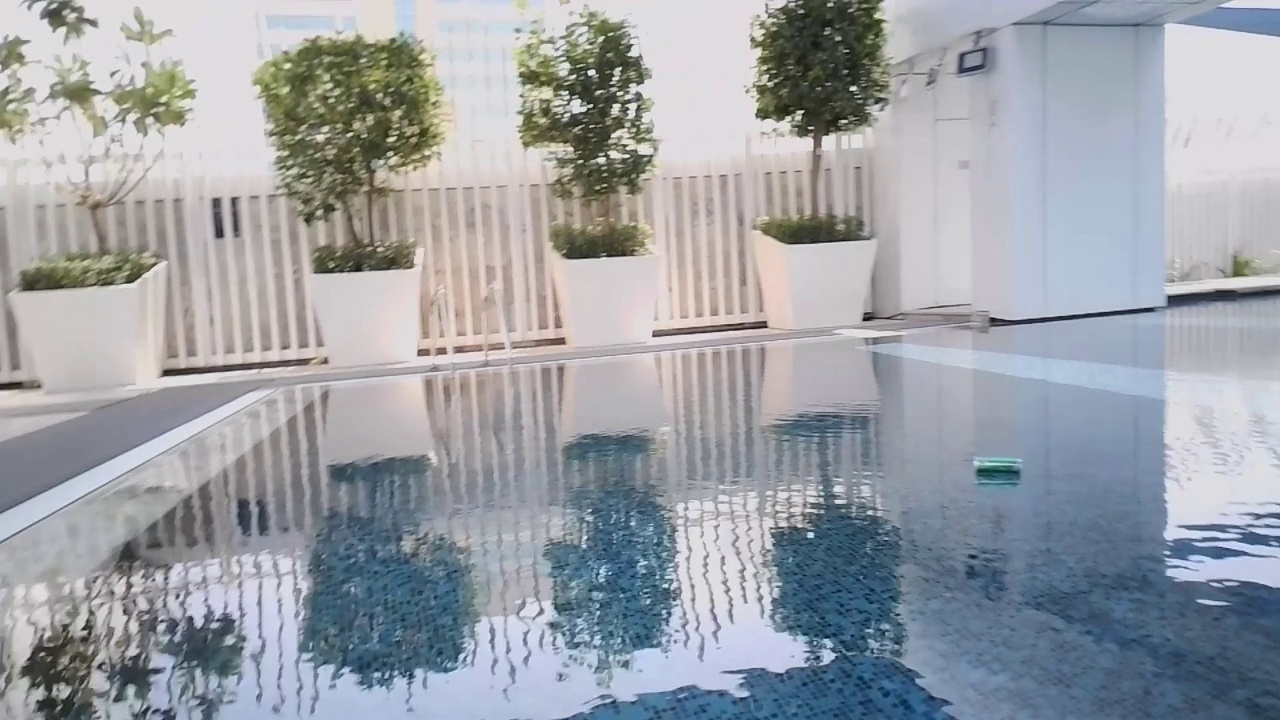debris: (973, 453, 1024, 484)
